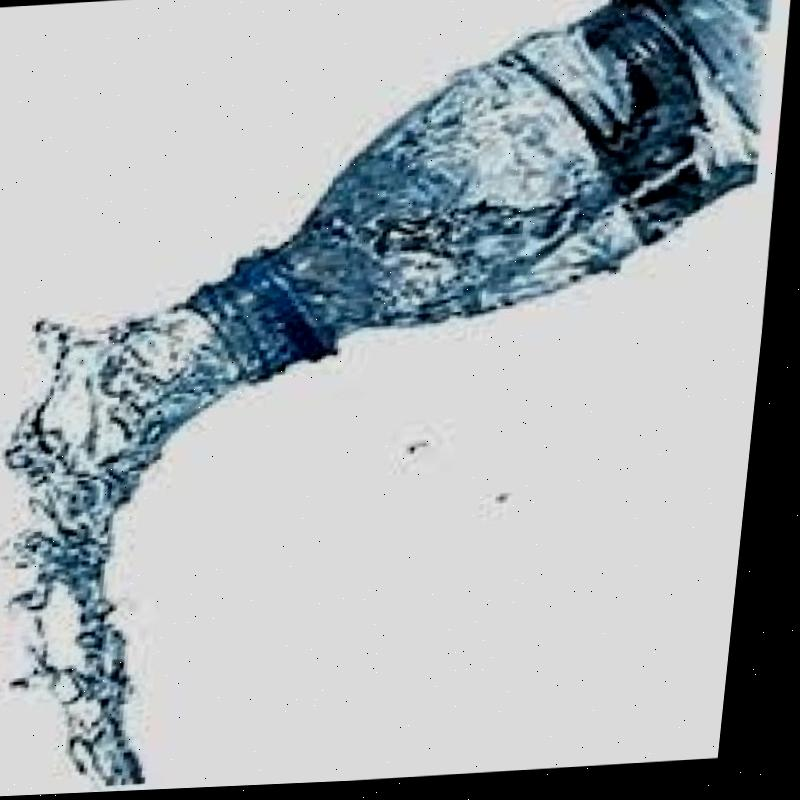botella: (186, 0, 780, 392)
